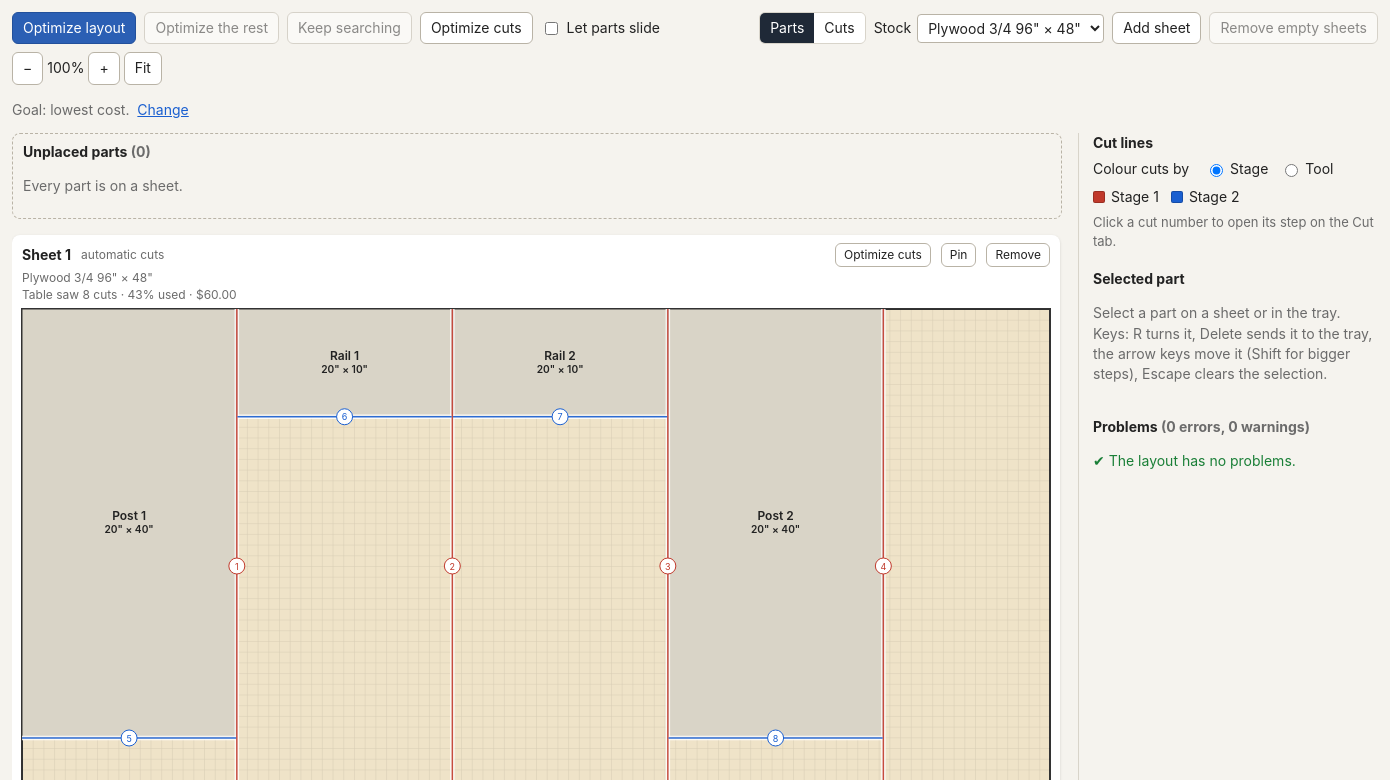
Test case: Optimize cuts › removes the saved cuts when a part moves, and Undo puts them back
Click the button "Optimize cuts" next to "Let parts slide" at (476, 28), box [420,12,532,44]
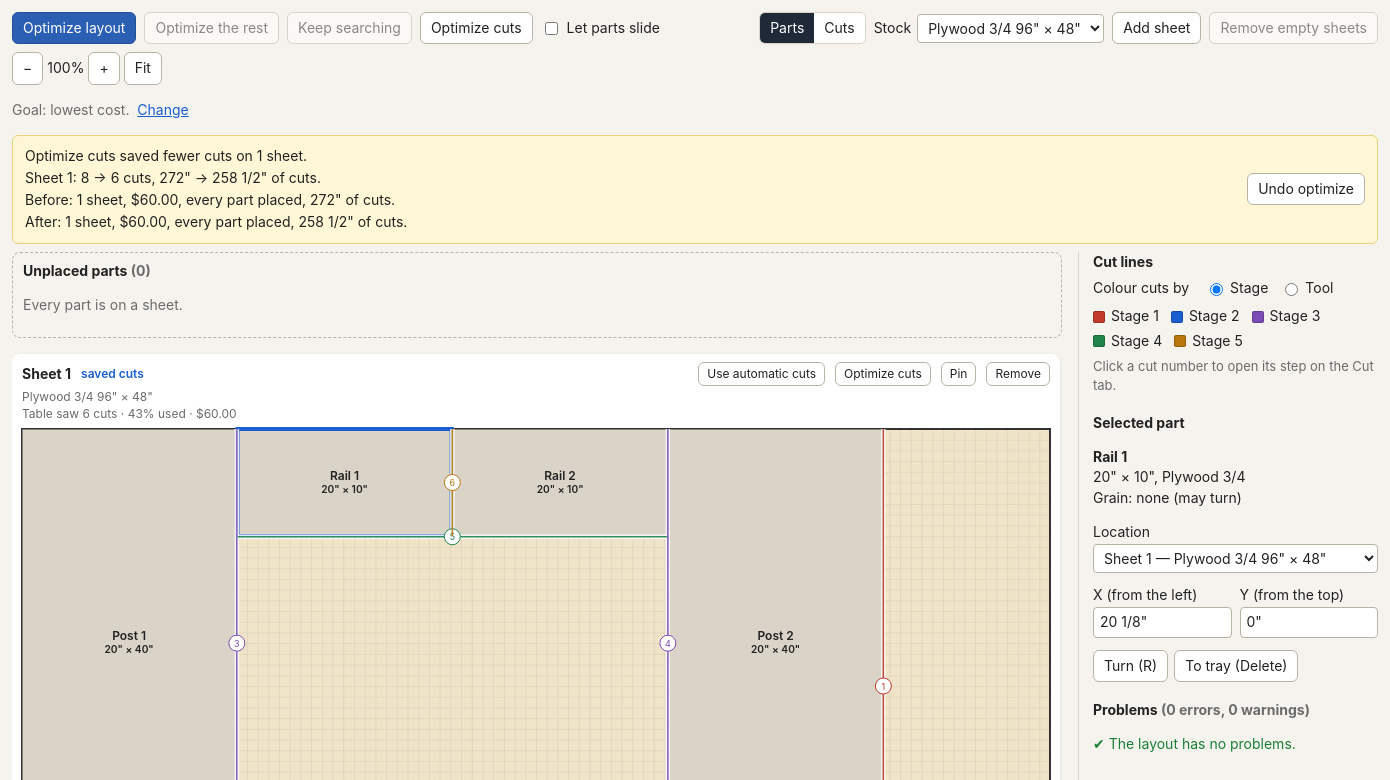
Check: the message shows "Optimize cuts saved fewer cuts on 1 sheet.", box [25,147,307,164]
Press Arrowdown
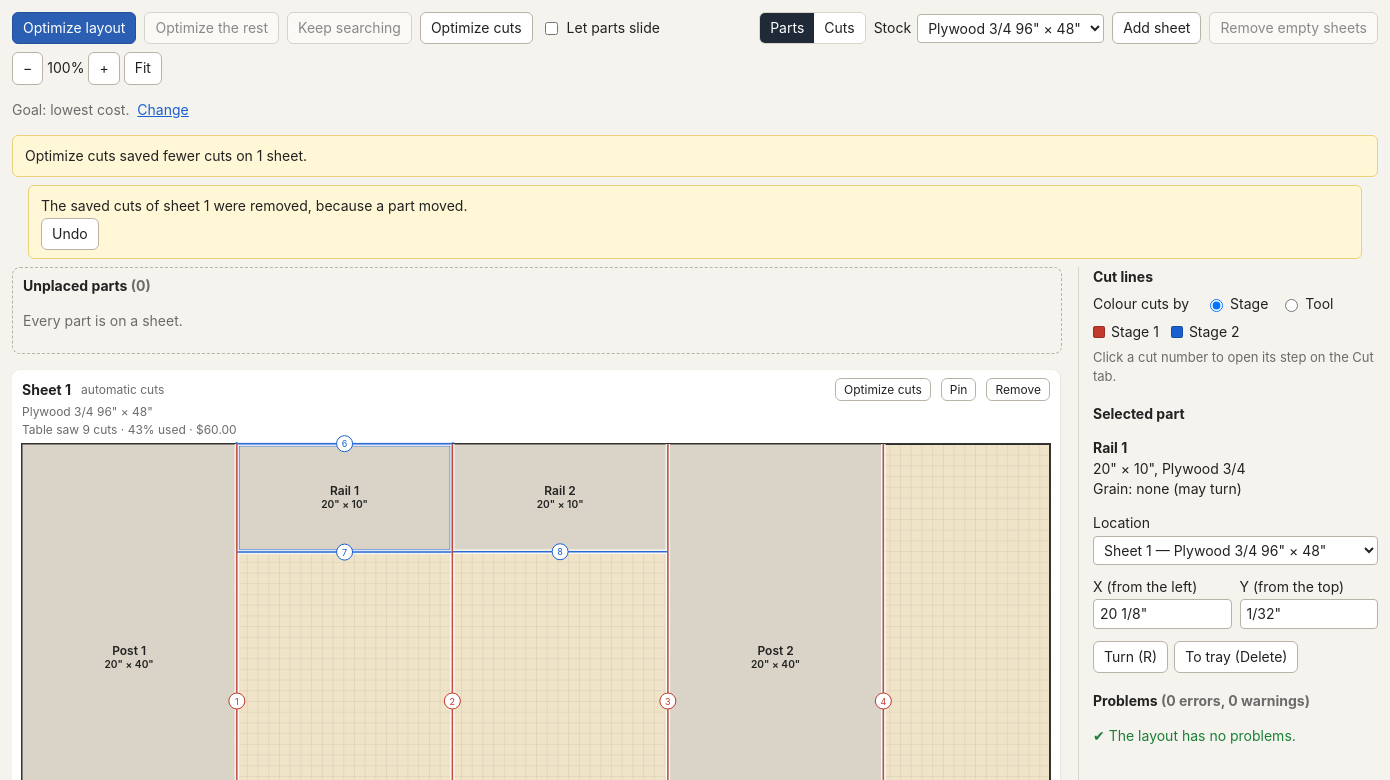
Check: the text "automatic cuts" is shown, box [81,382,164,397]
Click the button "Undo" at (70, 234), box [41,218,99,250]
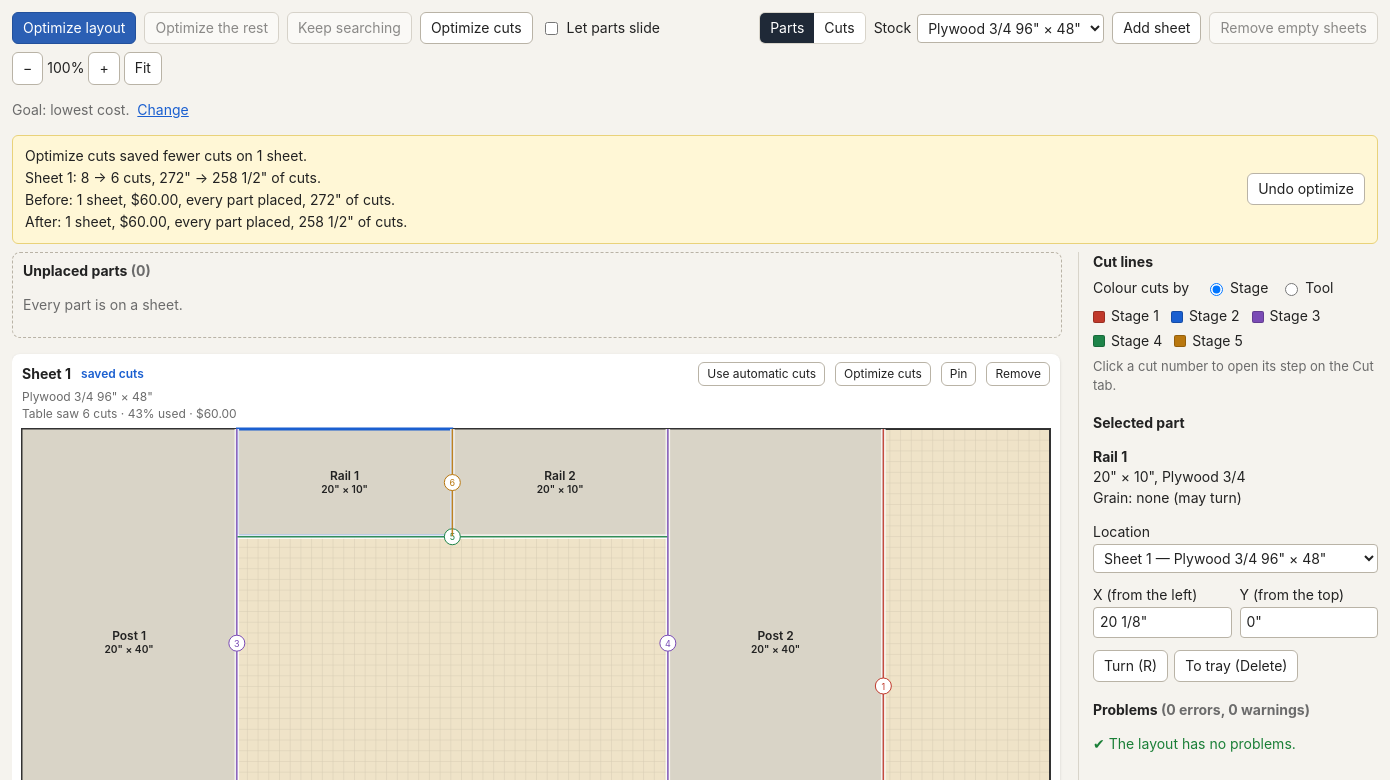
Check: the text "saved cuts" is shown, box [81,366,144,381]
Check: the text "were removed, because a part moved" is gone
